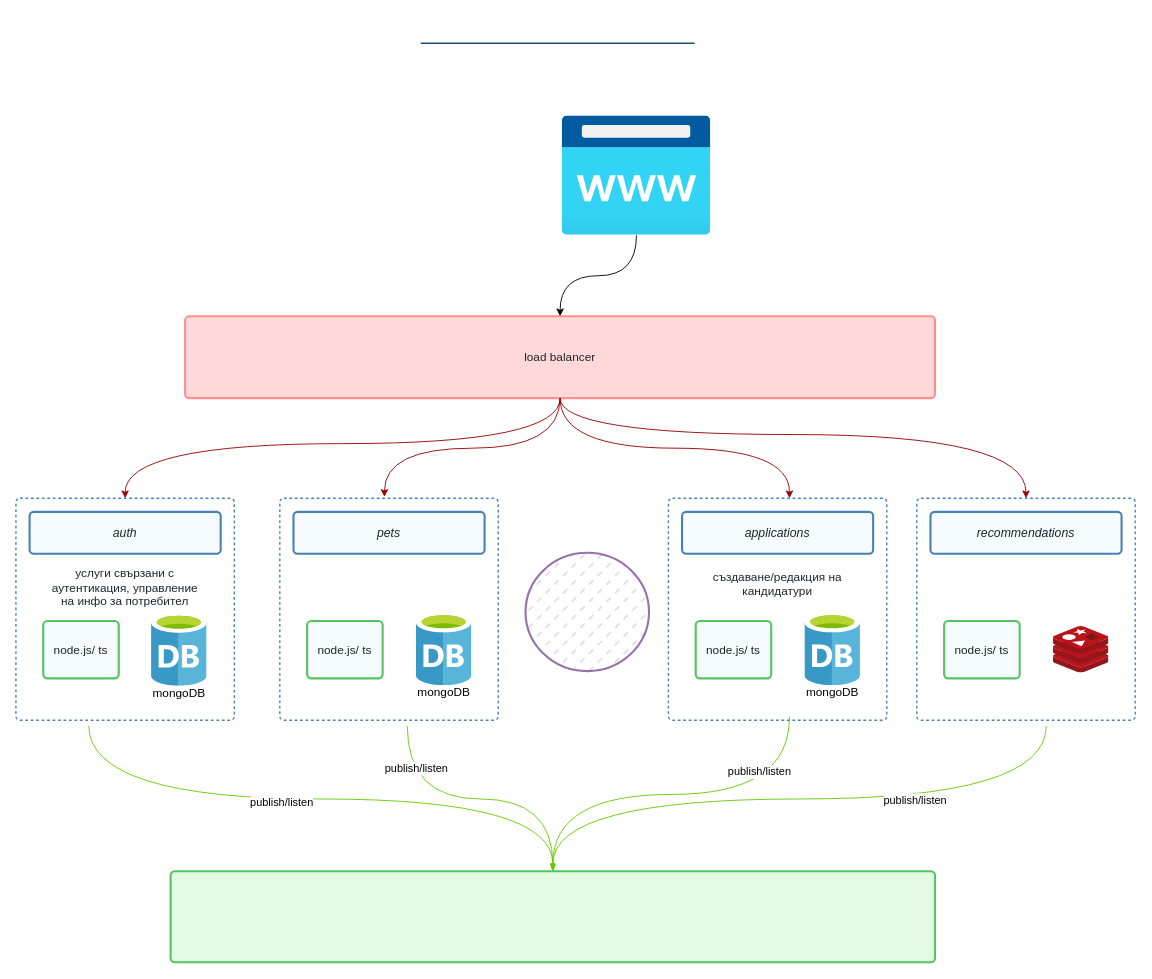
This 1152x979 diagram has some shape labels left out. The shapes that lost their labels are listed below. From the top down, each one's centre as x and y in pixels, then its label:
At (x=555, y=29): "Архитектура на приложението".
At (x=636, y=175): "react.js application".
At (x=388, y=588): "създаване/редакция на домашен любимец".
At (x=1025, y=582): "сравняване на домашни любимци и преференции на потребител".
At (x=587, y=611): "npm module споделена логика между сървисите - чрез инсталиране на npm модул".
At (x=1080, y=649): "redis".
At (x=552, y=916): "message broker nats".
